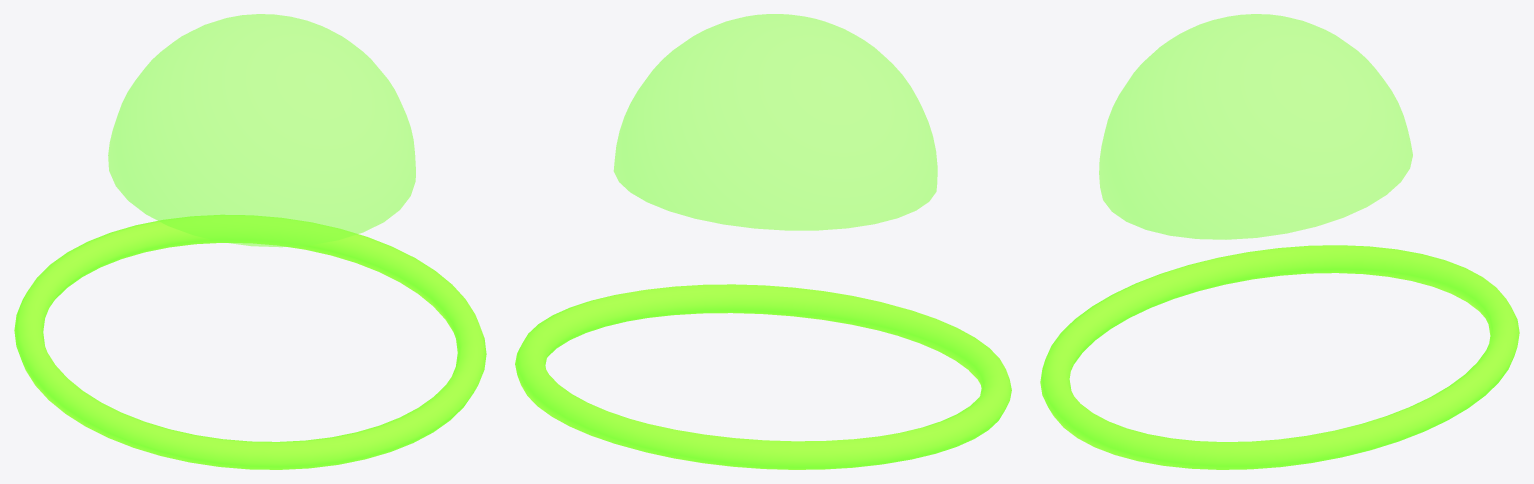
Rendered from pp_light_cell3.glb.
The picture shows the model from 3 angles, left to right: view 1: azimuth 30°, elevation 25°; view 2: azimuth 150°, elevation 25°; view 3: azimuth 270°, elevation 25°; orthographic projection. The views are drawn at different scales.
Parts seen in each view (by area): view 1: Infected, CellRing; view 2: Infected, CellRing; view 3: Infected, CellRing.
Part boxes in pixels (<box>): Infected: <box>108,14,415,247</box>; CellRing: <box>14,214,486,469</box>; Infected: <box>613,14,937,230</box>; CellRing: <box>515,284,1011,469</box>; Infected: <box>1099,14,1412,239</box>; CellRing: <box>1040,245,1519,469</box>.
Bounding box in the file's own units: 0.098 × 0.0819 × 0.0974.
